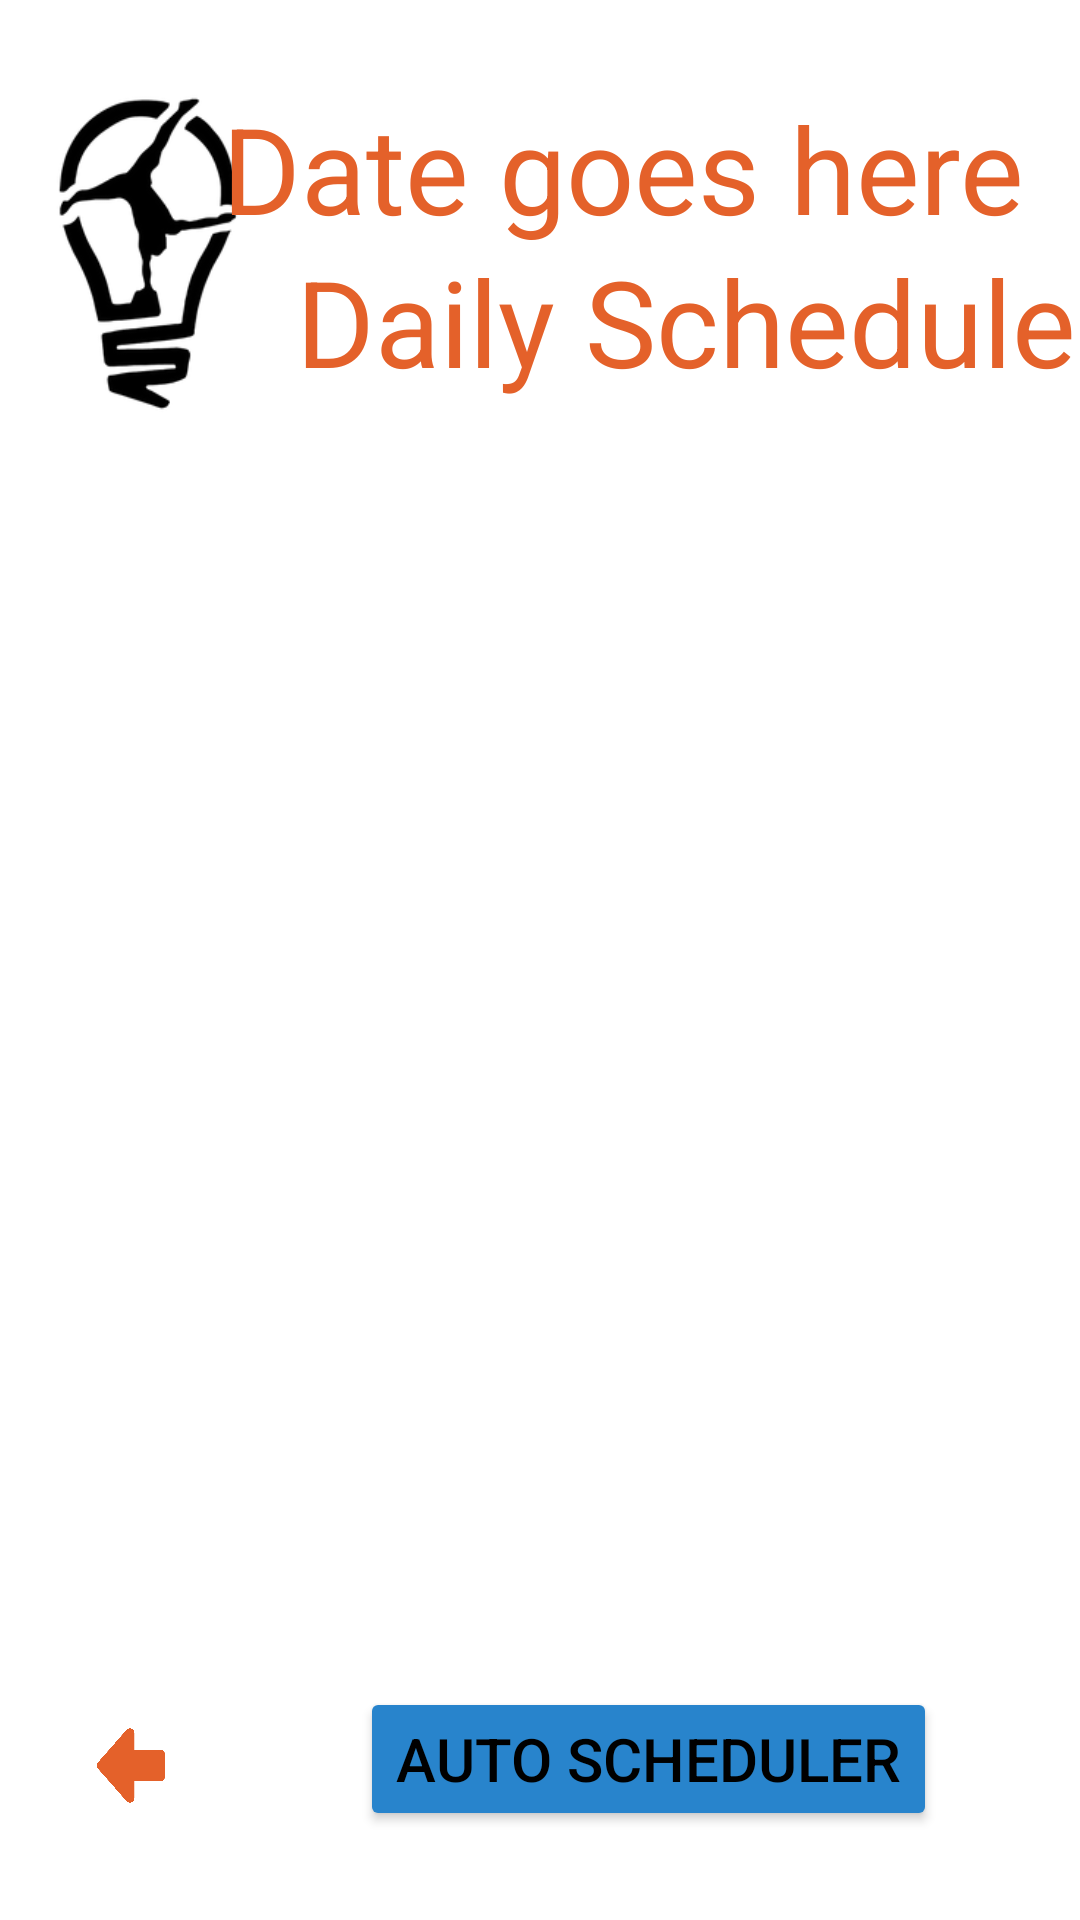

Named icons in this screenshot (1080×1920) and their bounding boxes, detection(x1, y1, x2, y2):
Back Arrow: detection(97, 1728, 165, 1803)
